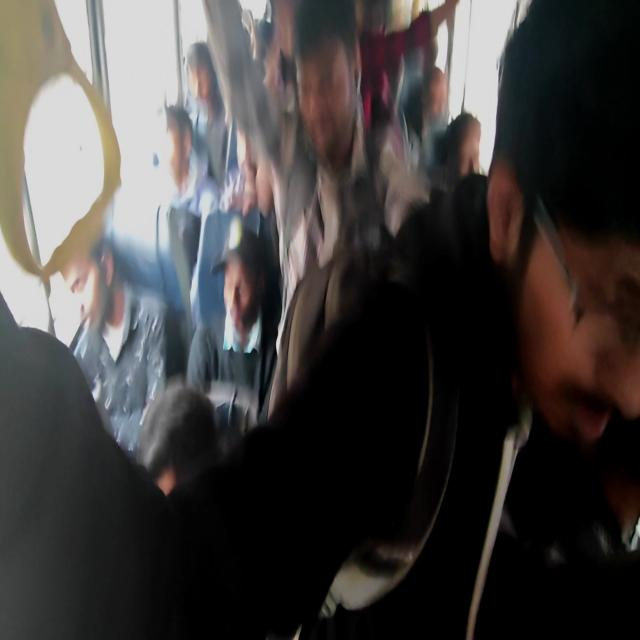person: (491, 48, 638, 559), (272, 5, 386, 181), (48, 170, 139, 336), (294, 0, 364, 161), (213, 237, 259, 375), (158, 110, 196, 203), (450, 120, 484, 204), (185, 55, 228, 121), (234, 137, 271, 209), (423, 68, 455, 124)
